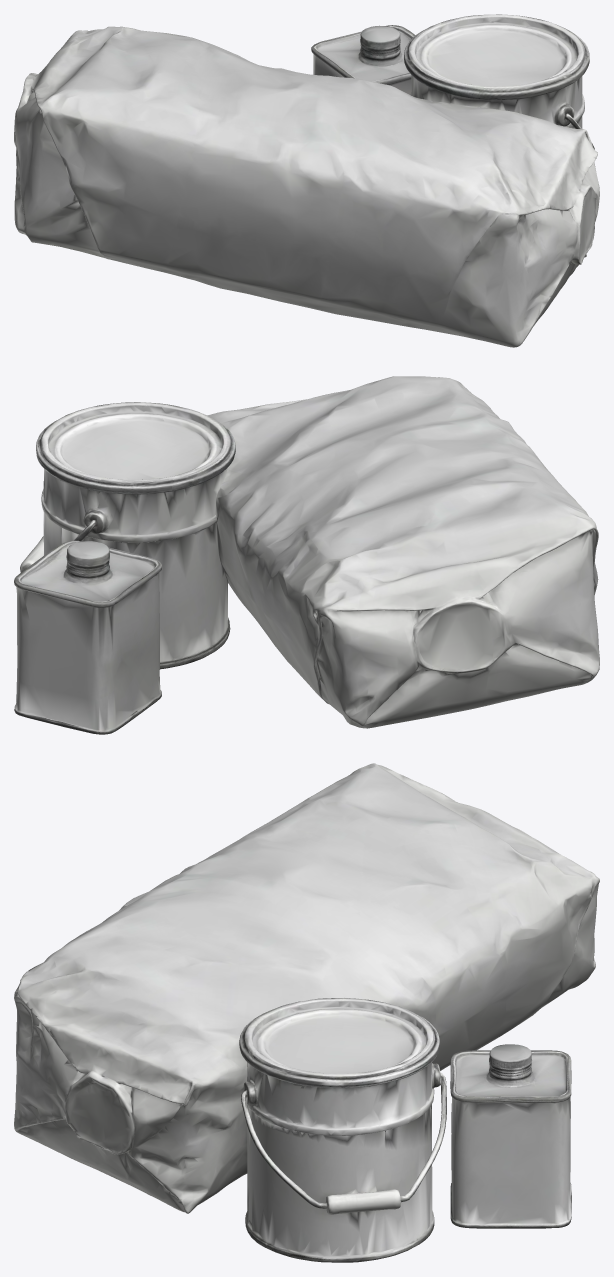
File: yhepoxy-gr90.glb
The picture shows the model from 3 angles, top to bottom: view 1: azimuth 30°, elevation 25°; view 2: azimuth 150°, elevation 25°; view 3: azimuth 270°, elevation 25°; orthographic projection. The views are drawn at different scales.
Parts seen in each view (by area): view 1: tripo_node_de1ad9b6-b73b-420e-9f89-bdc92a5af67e; view 2: tripo_node_de1ad9b6-b73b-420e-9f89-bdc92a5af67e; view 3: tripo_node_de1ad9b6-b73b-420e-9f89-bdc92a5af67e.
Boxes of the visible parts, x1=… form: tripo_node_de1ad9b6-b73b-420e-9f89-bdc92a5af67e: x1=14, y1=14, x2=599, y2=347; tripo_node_de1ad9b6-b73b-420e-9f89-bdc92a5af67e: x1=14, y1=376, x2=599, y2=734; tripo_node_de1ad9b6-b73b-420e-9f89-bdc92a5af67e: x1=14, y1=763, x2=599, y2=1262.
Size of the model in its own units: 1 by 0.3964 by 0.8743.
Materials: 1 (1 with a texture image).
